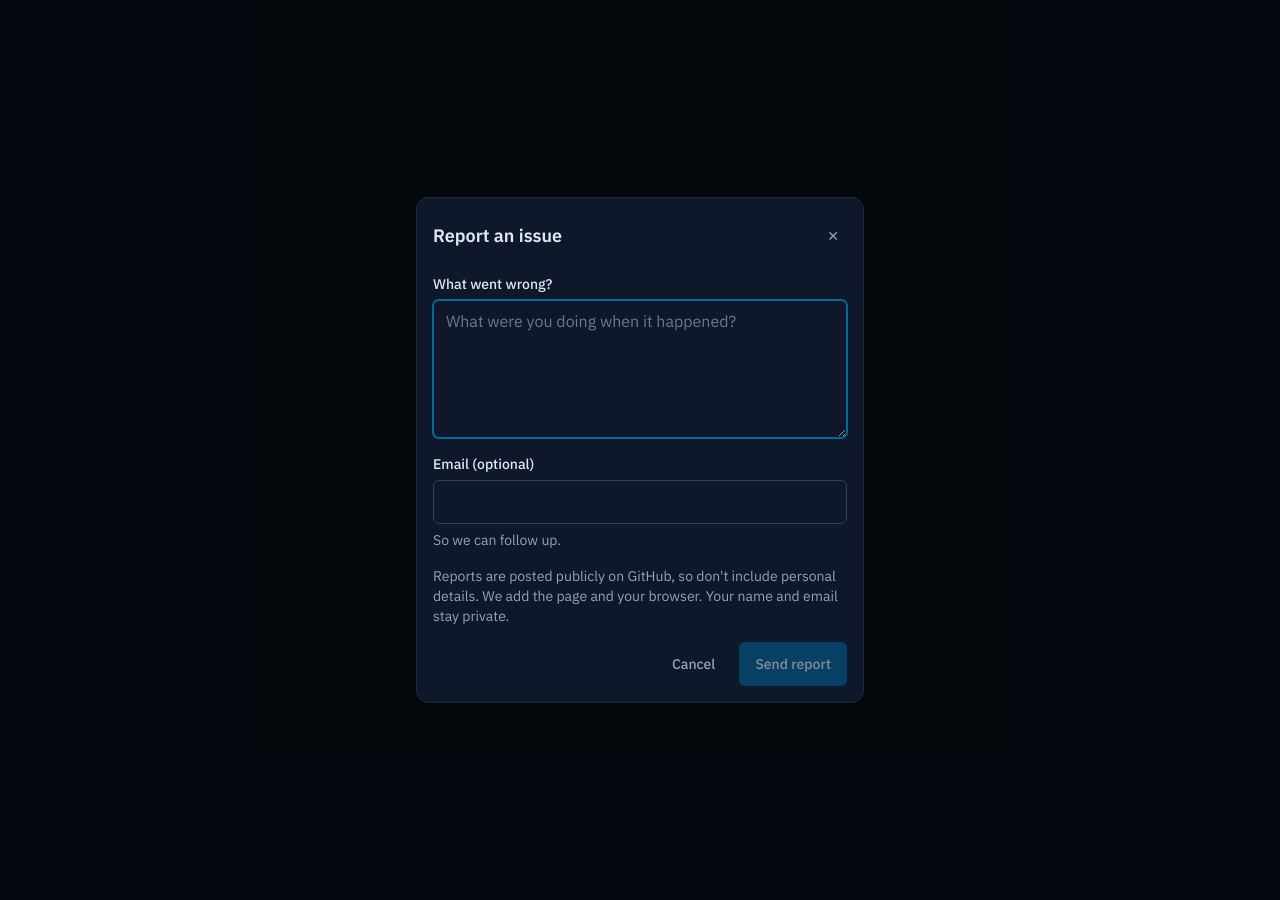
Scenario: FeedbackWidget submit › sends the description from the form even when it was filled without a React change event
Type "The map never loads on the plan page." into the text box labelled "What went wrong?".
click(640, 369); type("The map never loads on the plan page.")  # box [433,300,847,438]
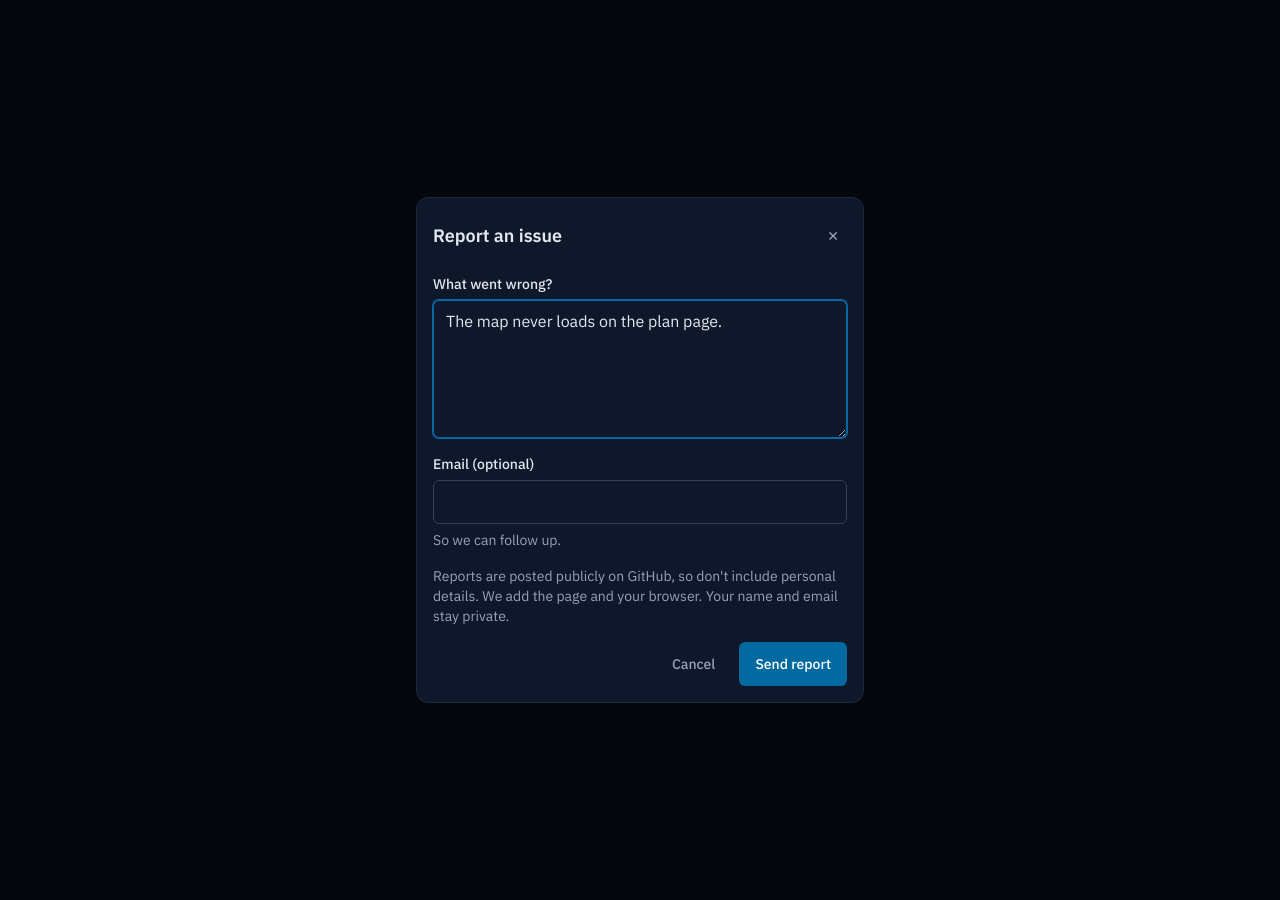
Check: the button "Send report" is enabled
Click the button "Send report".
click(793, 664)  # box [739,642,847,686]
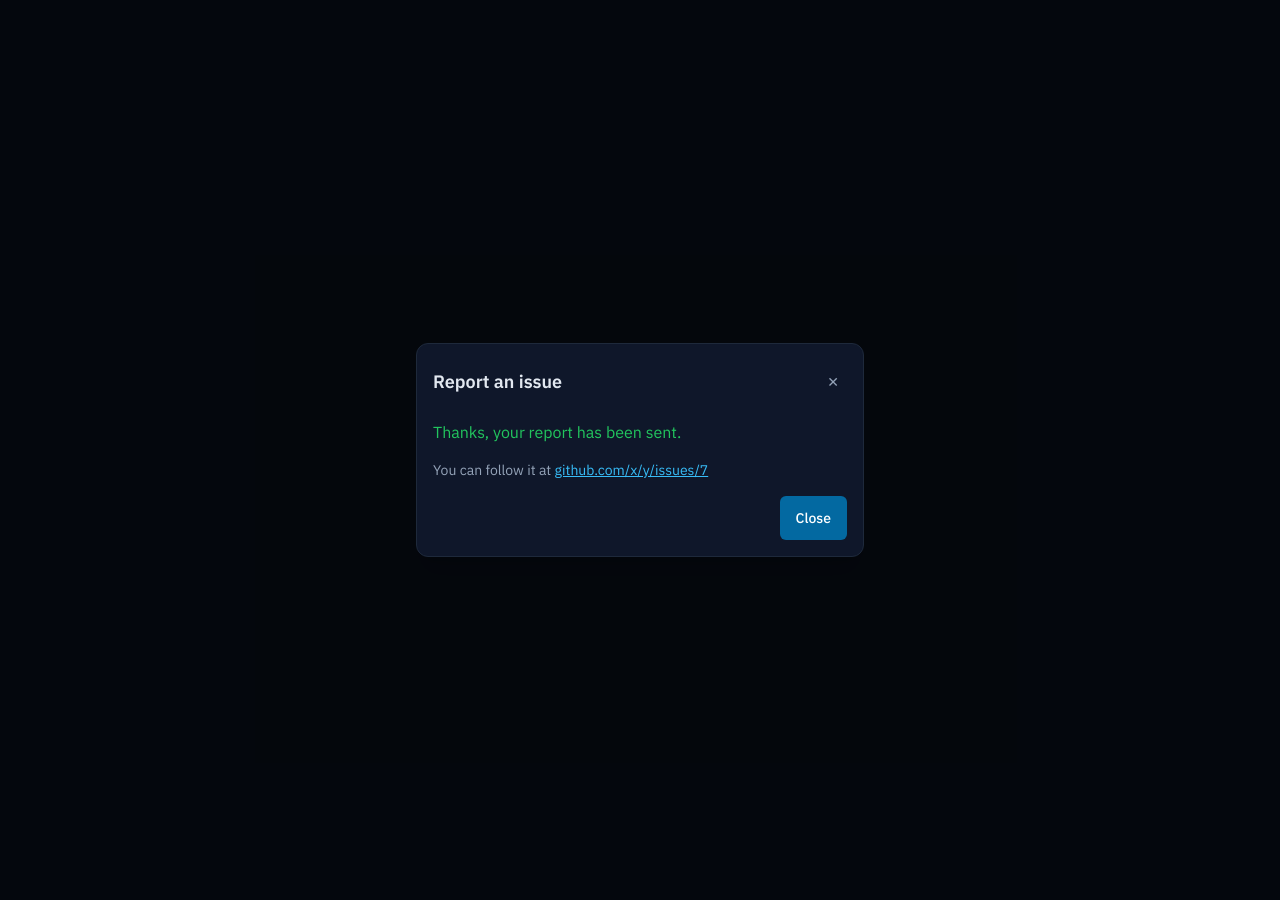
Check: the text "Thanks, your report has been sent" is shown, box [433,422,681,442]
Check: the link to "https://github.com/x/y/issues/7" is shown, box [555,461,708,479]
